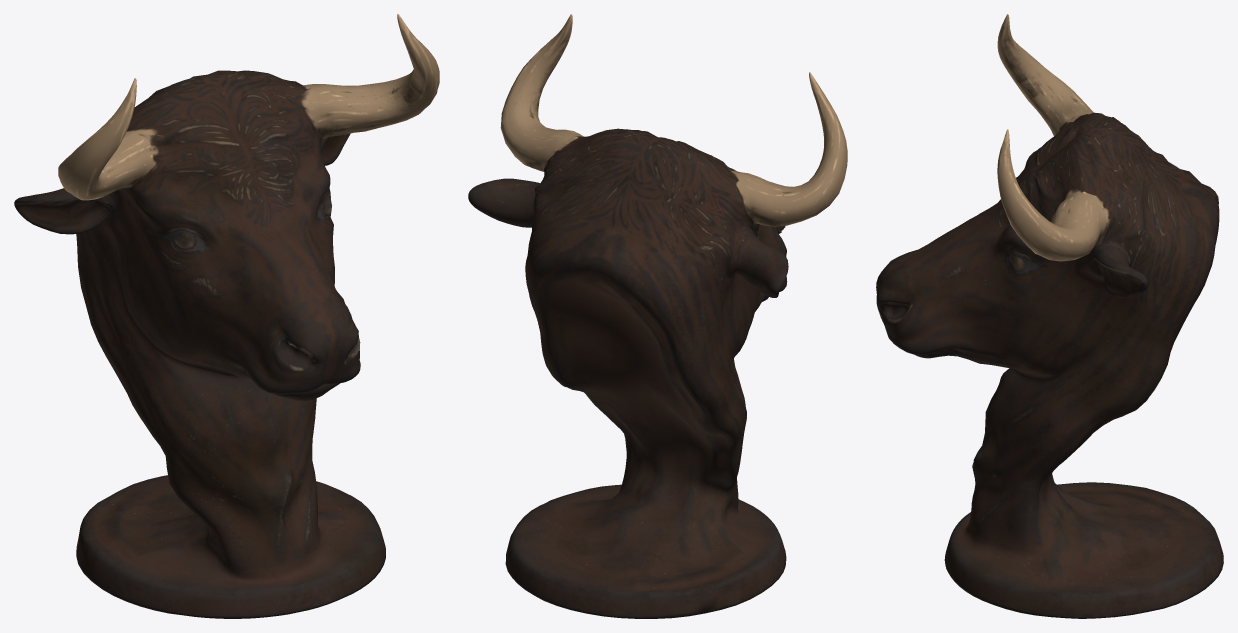
Rendered from bull_head_4k-v2.glb.
3 views of the same model, side by side, from view 1: azimuth 30°, elevation 25°; view 2: azimuth 150°, elevation 25°; view 3: azimuth 270°, elevation 25° (orthographic). The views are drawn at different scales.
Parts seen in each view (by area): view 1: bull_head; view 2: bull_head; view 3: bull_head.
Boxes of the visible parts, x1=… form: bull_head: x1=14, y1=14, x2=439, y2=618; bull_head: x1=468, y1=14, x2=847, y2=618; bull_head: x1=876, y1=14, x2=1223, y2=618.
Size of the model in its own units: 0.3064 by 0.433 by 0.2807.
1 material, 1 textured.
